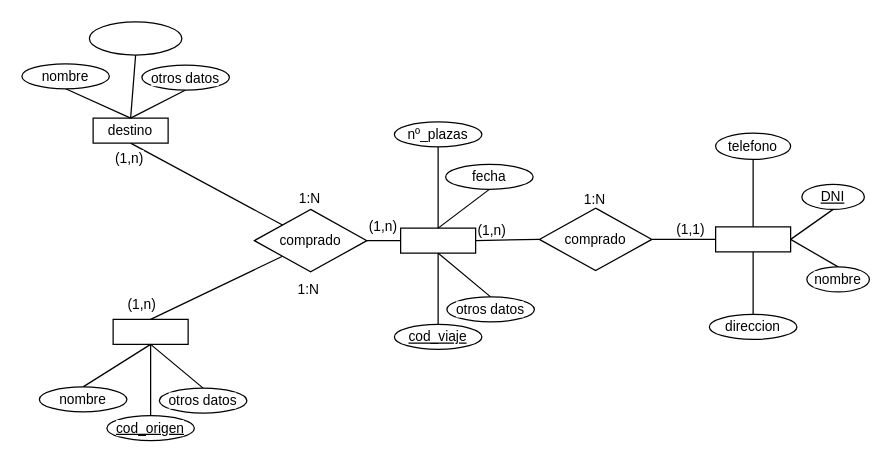
Image size: 891x463. Some labels were removed from this diagram. Each missing label, with the centre of its shape:
"cod_destino" goes at (135,38).
"origen" goes at (150,331).
"viaje" goes at (437,240).
"viajero" goes at (752,239).
